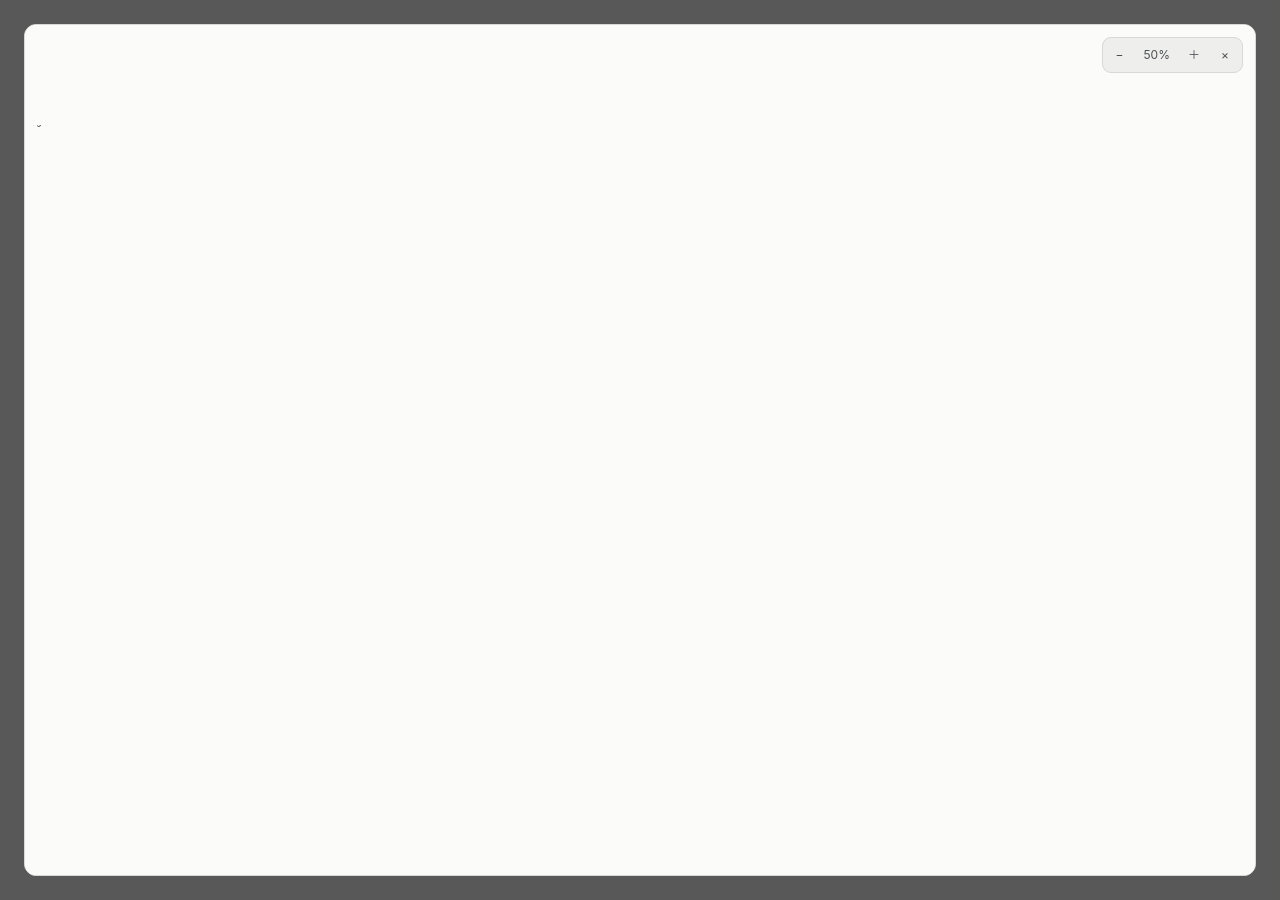
Test: MermaidDiagramViewer › zooms from the toolbar and restores fit scale from the percentage button
The image size is (1280, 900).
Check: the button named "当前比例，点击适应窗口" reads "50%", box x1=1136 y1=41 x2=1177 y2=69
Click the button named "放大图表". click: (1194, 55)
box: x1=1180 y1=41 x2=1208 y2=69
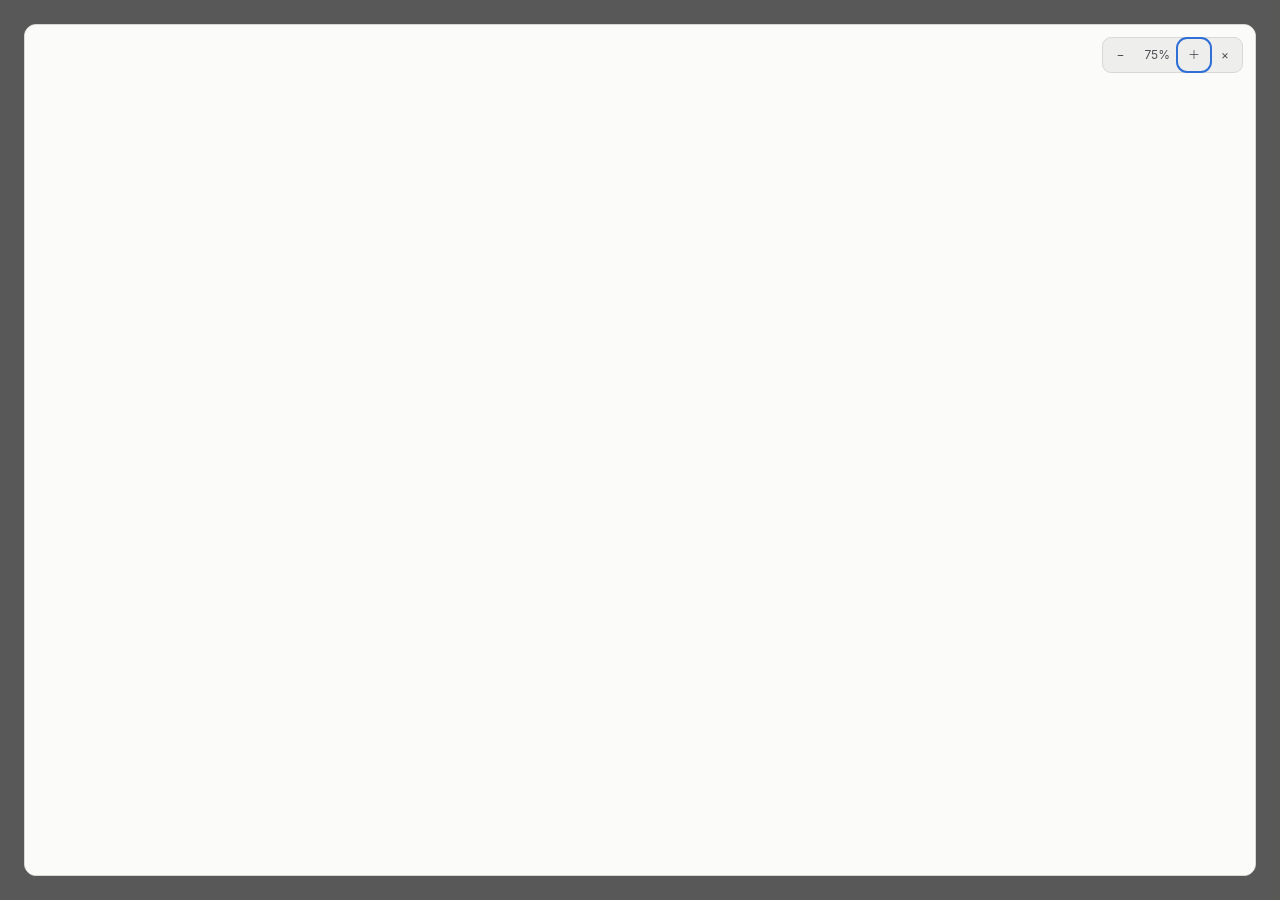
Check: the button named "当前比例，点击适应窗口" reads "75%"
Click the button named "当前比例，点击适应窗口". click: (1157, 55)
box: x1=1137 y1=41 x2=1177 y2=69
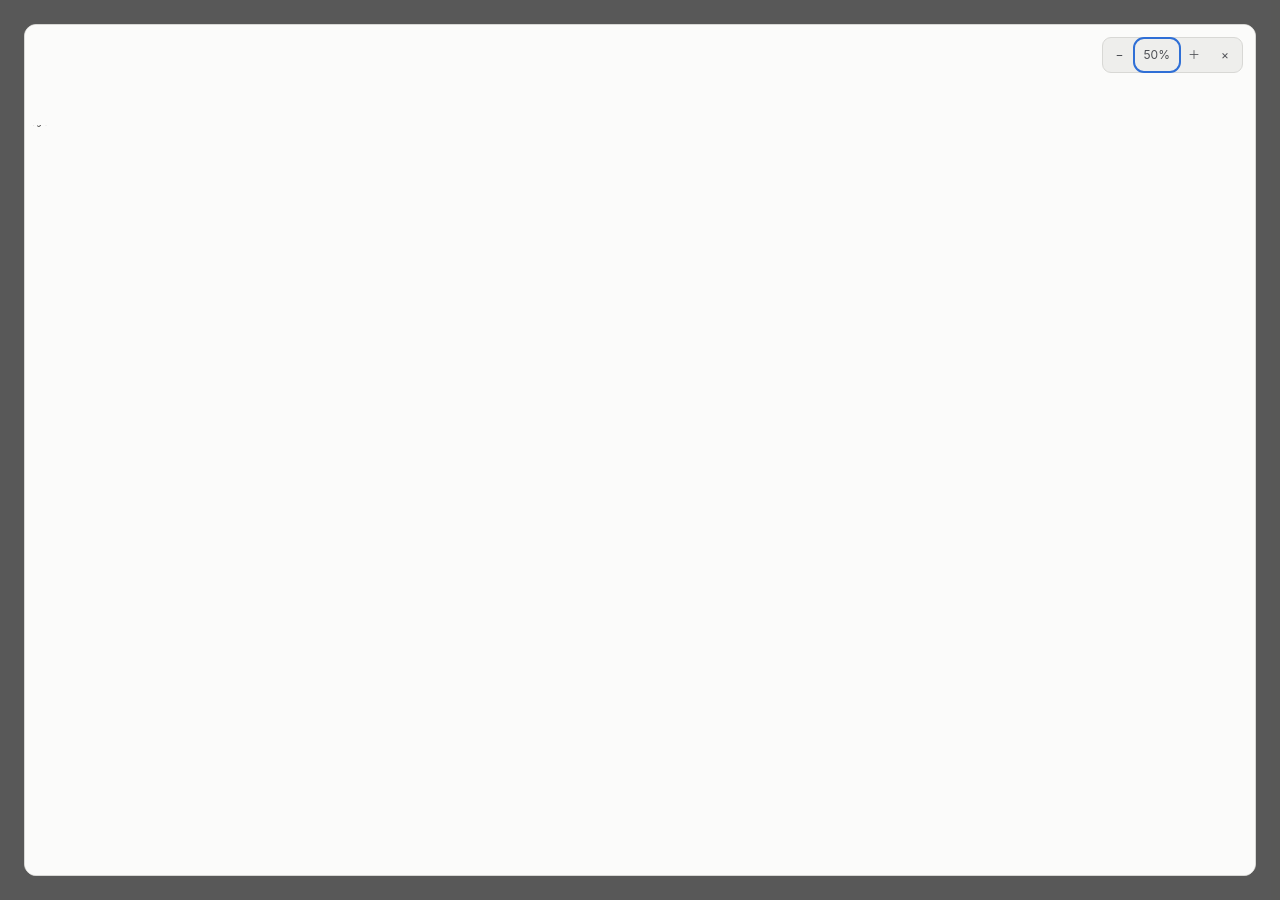
Check: the button named "当前比例，点击适应窗口" reads "50%", box x1=1136 y1=41 x2=1177 y2=69
